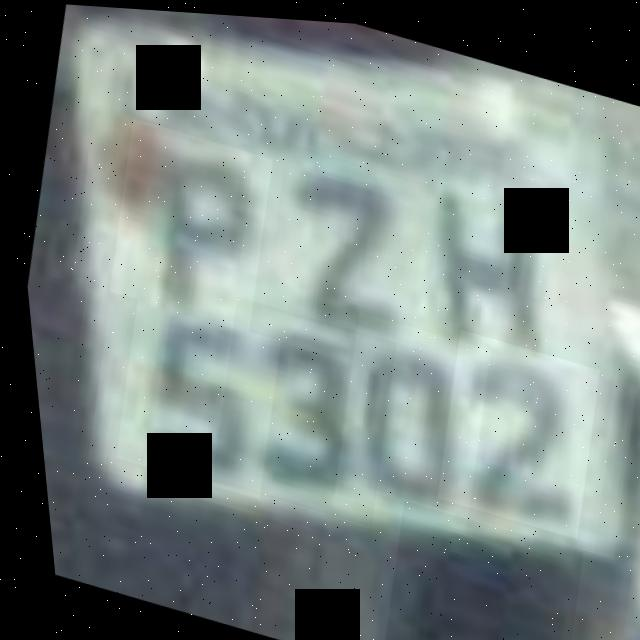0: (310, 305, 498, 531)
2: (414, 321, 606, 533)
3: (188, 291, 404, 524)
5: (94, 296, 286, 498)
9: (354, 493, 581, 640)
P: (90, 114, 283, 331)
Z: (245, 137, 440, 347)
